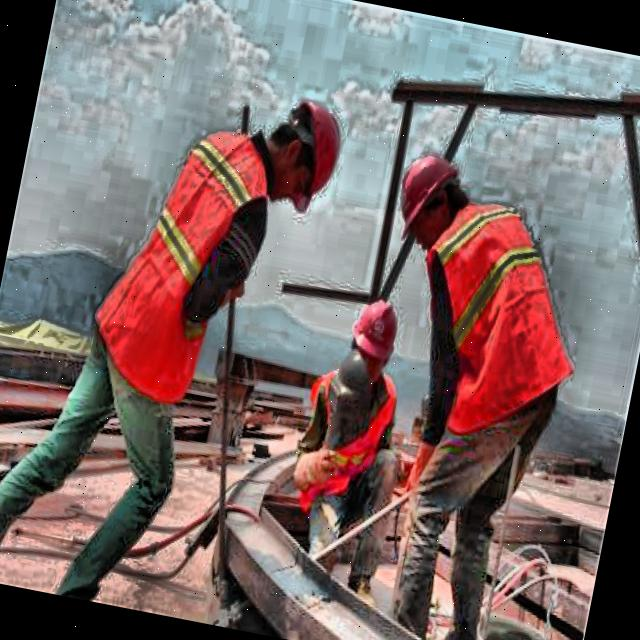helmet: (248, 84, 364, 214), (383, 142, 478, 252), (340, 290, 408, 388)
